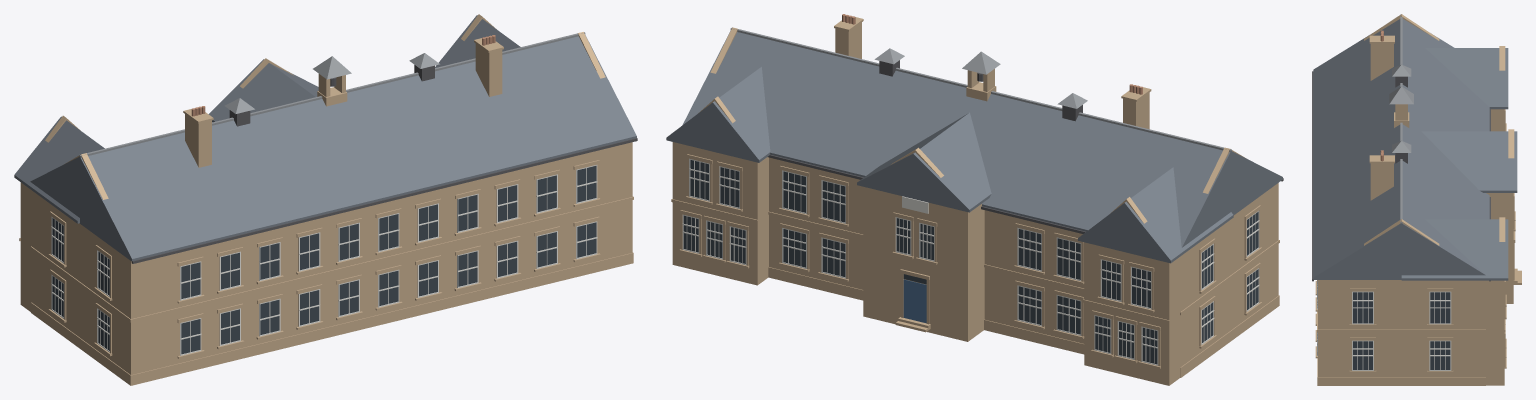
File: school.glb
3 views of the same model, side by side, from view 1: azimuth 30°, elevation 25°; view 2: azimuth 150°, elevation 25°; view 3: azimuth 270°, elevation 25° (orthographic). The views are drawn at different scales.
Visible parts, largest first — view 1: school; view 2: school; view 3: school.
Boxes of the visible parts, x1,y1,x2,y2 form: school: [14, 14, 637, 385]; school: [666, 14, 1283, 385]; school: [1312, 14, 1521, 385].
Size of the model in its own units: 38.6 by 16.8 by 16.29.
